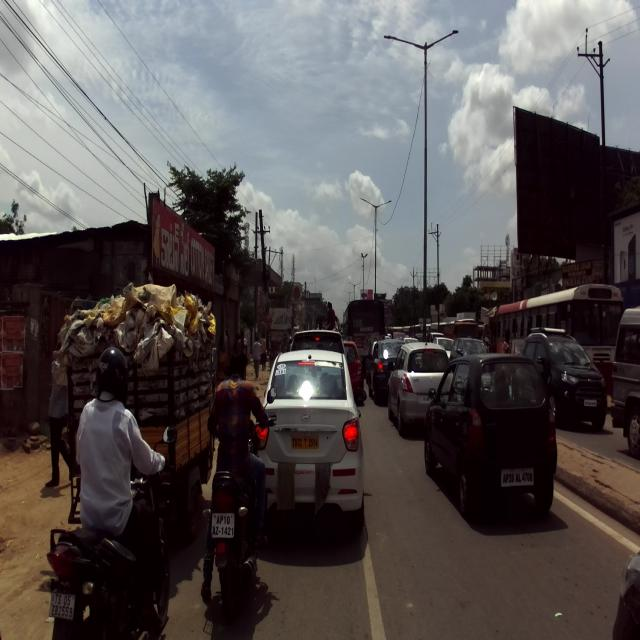Car_Ford: (522, 325, 607, 431)
Car_Hyundai: (254, 347, 367, 535)
Car_Maruti-Suzuki: (426, 353, 560, 520), (386, 342, 451, 436)
autorickshaw: (51, 283, 216, 536)
bus: (496, 283, 624, 402)
motorcycle_Hero: (44, 421, 178, 639)
motorcycle_Honda: (202, 384, 276, 615)
